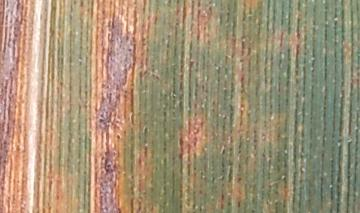tarspot: (219, 144, 227, 157), (114, 133, 122, 141), (77, 1, 84, 8), (202, 24, 207, 32)
